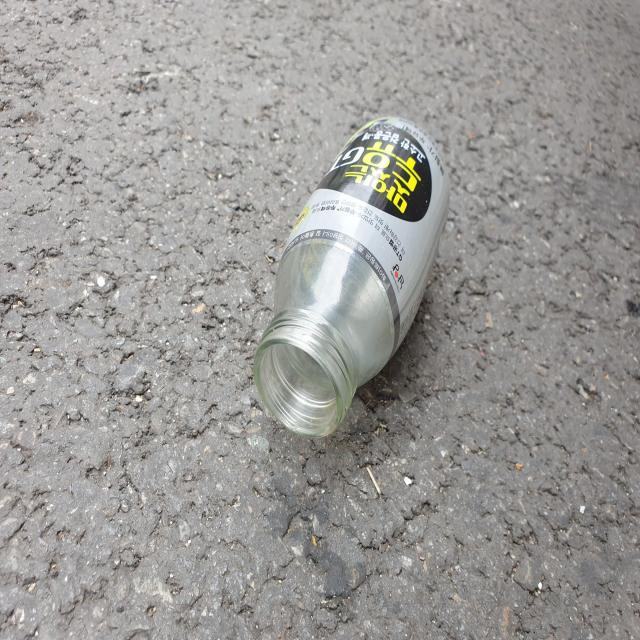glass: (254, 116, 449, 437)
